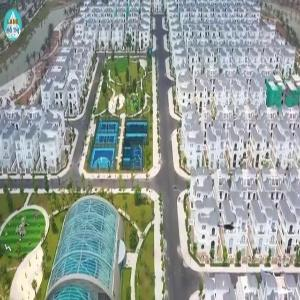drone: (205, 202, 253, 250)
